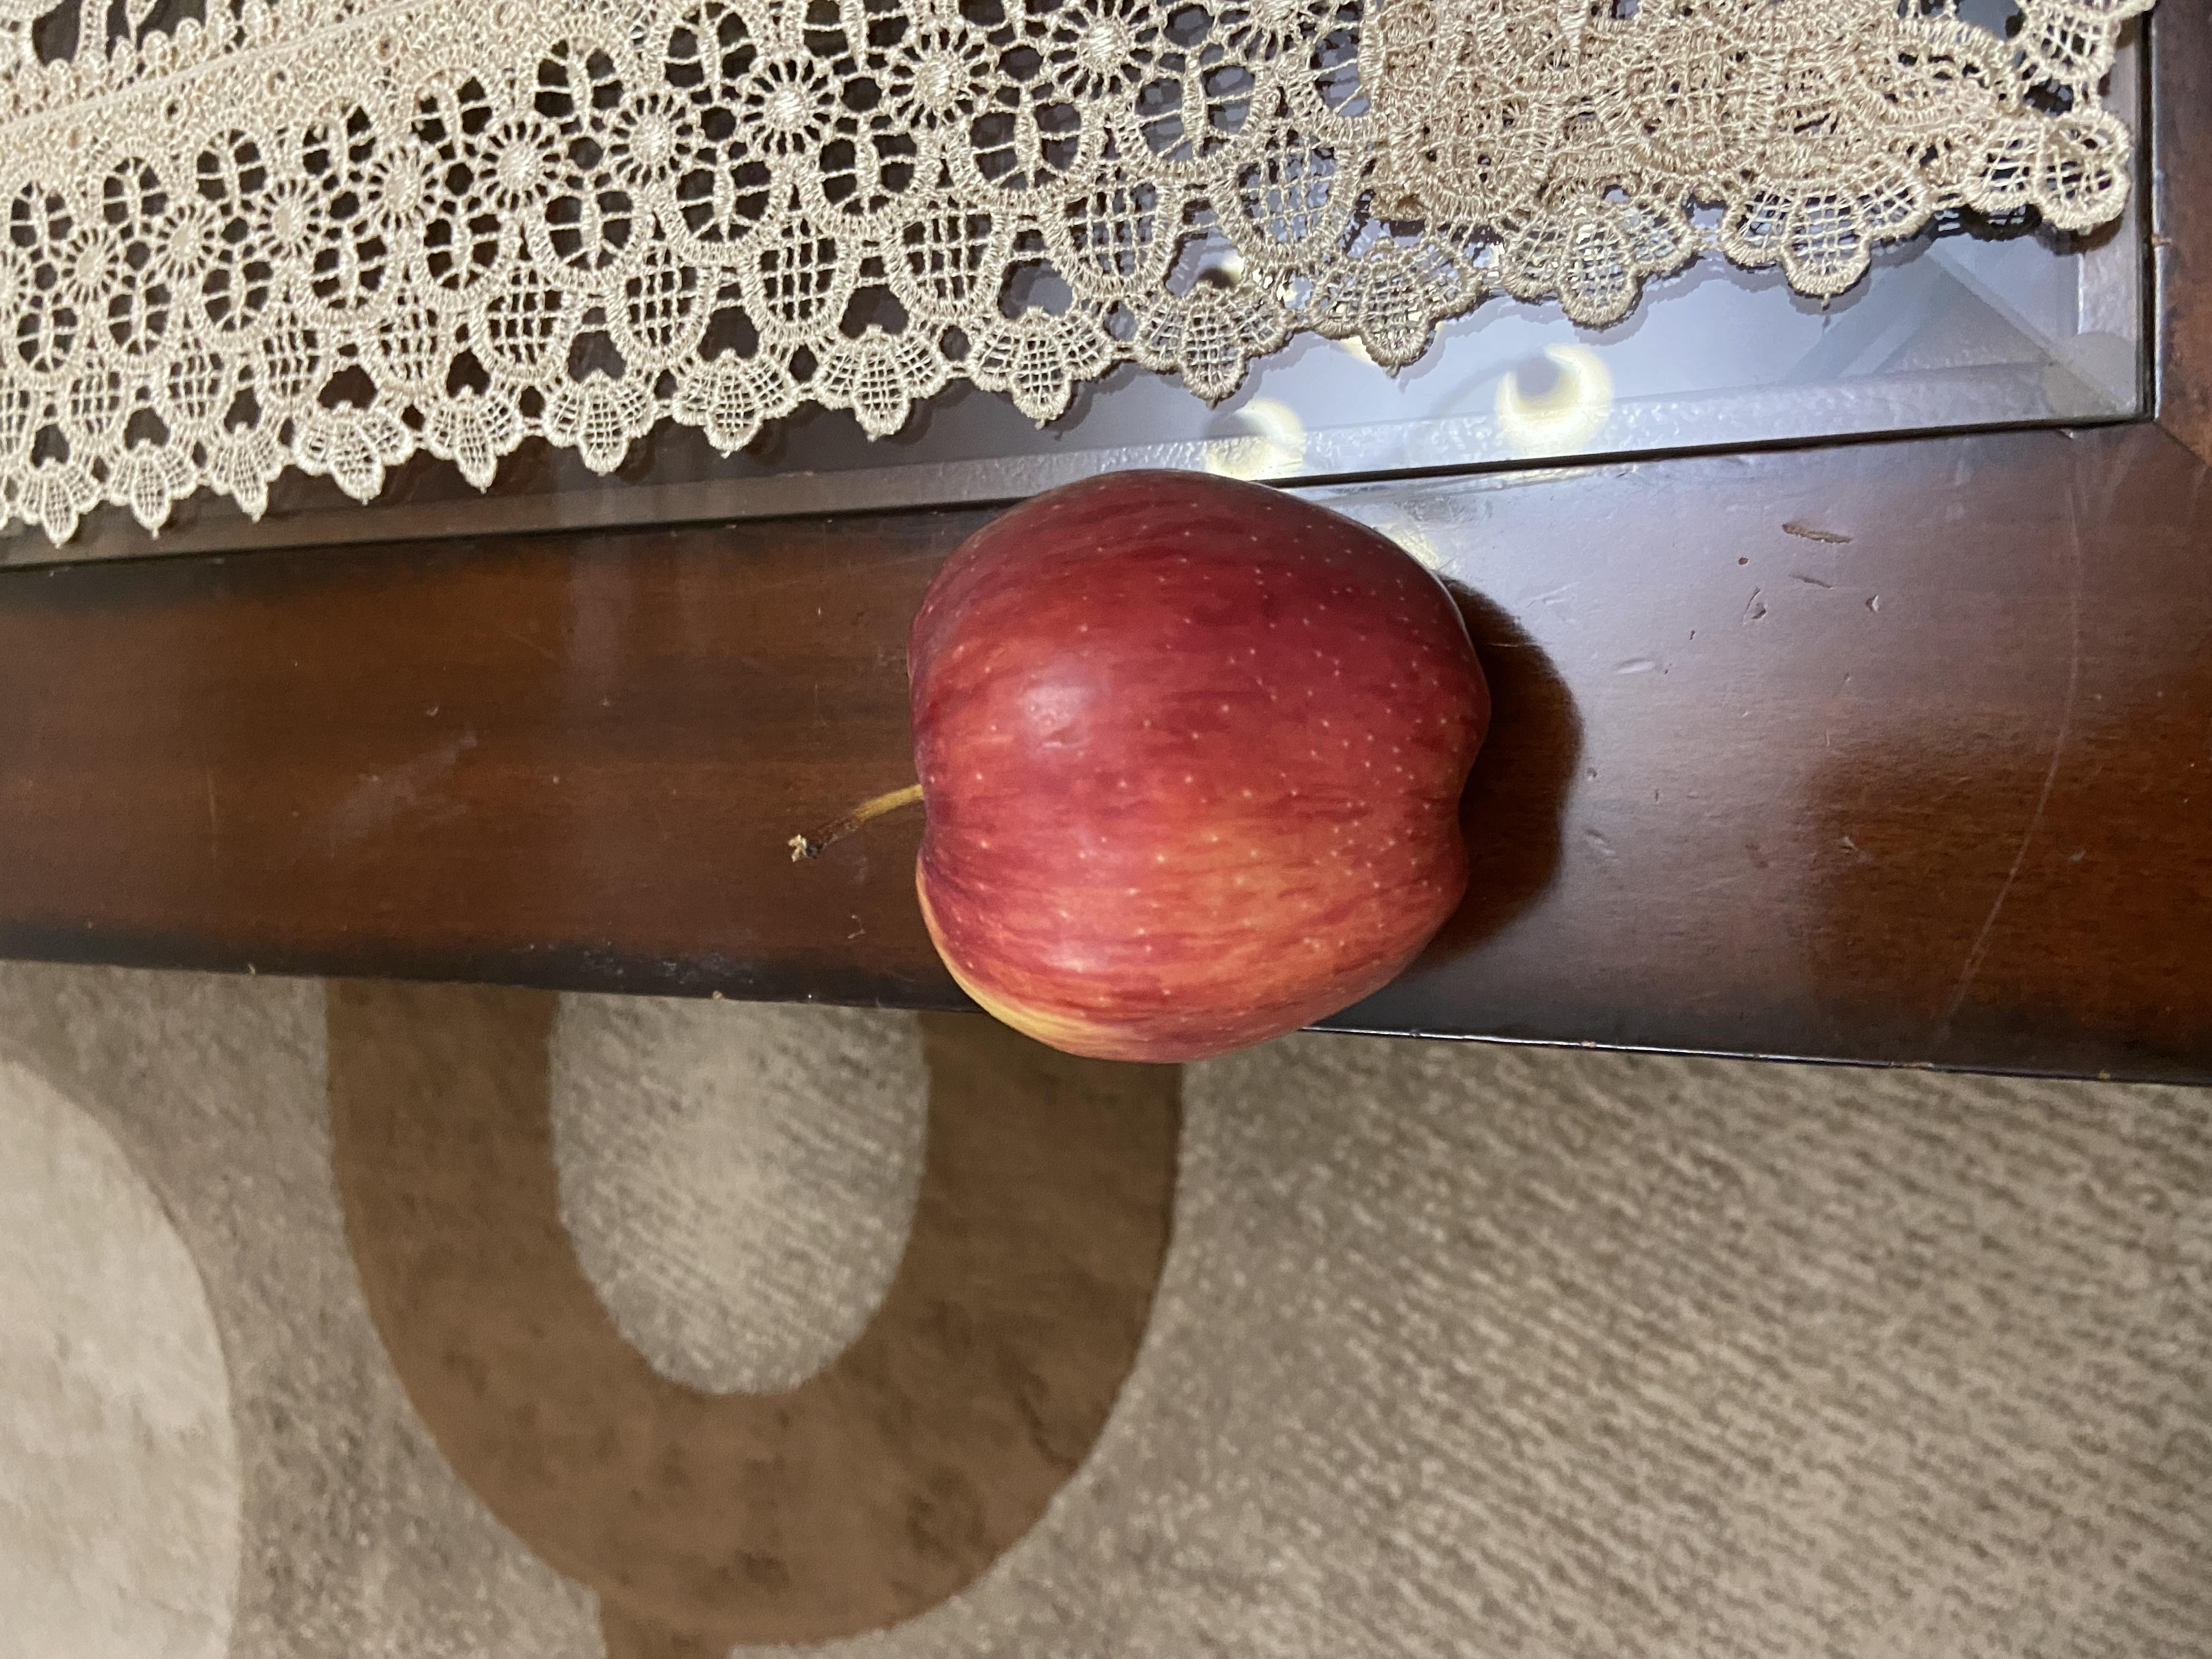Apple: (721, 577, 1439, 1190)
